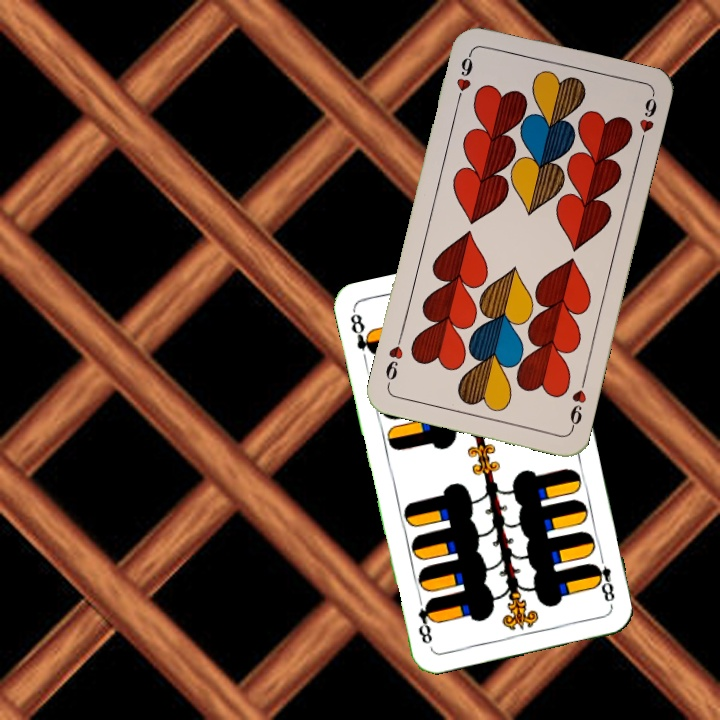E8: (588, 550, 618, 609), (346, 308, 378, 358)
H9: (565, 374, 589, 433), (452, 48, 476, 107)
